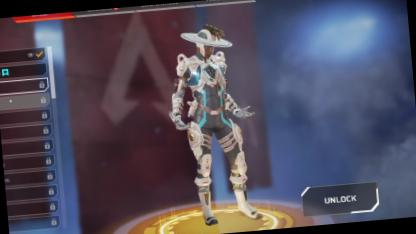Target: (160, 18, 257, 186)
